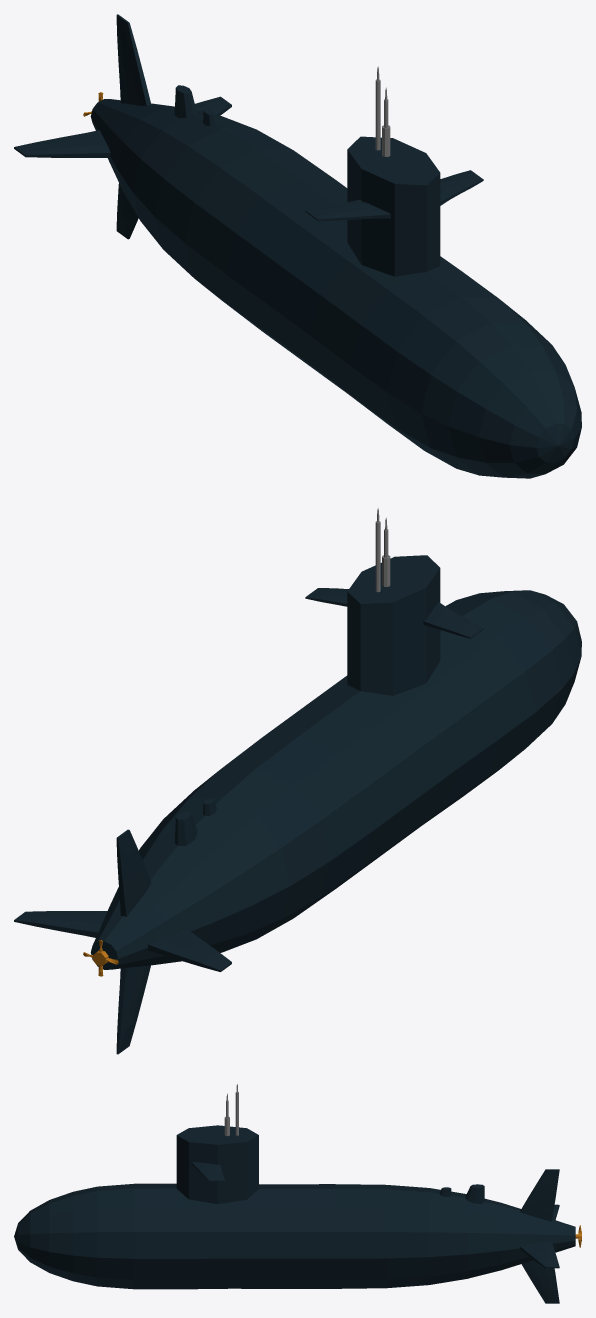
File: vehicle_submarine.obj
The picture shows the model from 3 angles, top to bottom: view 1: azimuth 30°, elevation 25°; view 2: azimuth 150°, elevation 25°; view 3: azimuth 270°, elevation 25°; orthographic projection. The views are drawn at different scales.
Bounding box in the file's own units: 2.84 × 4.68 × 10.95.
